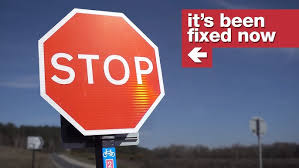stop sign: (37, 7, 166, 137)
